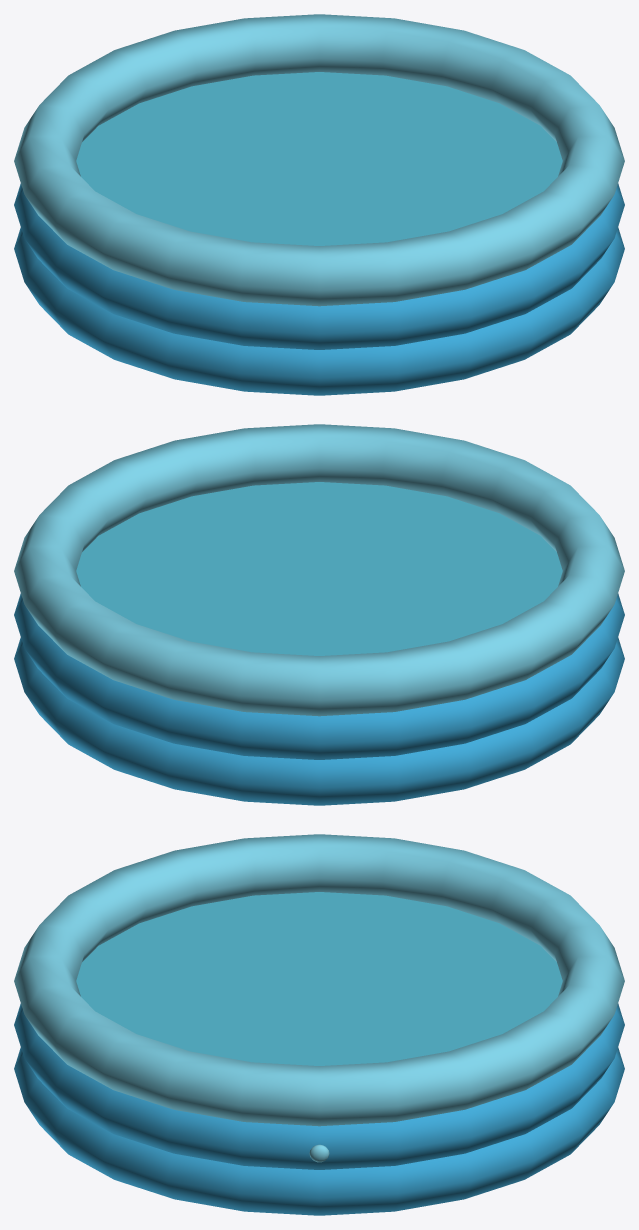
Rendered from kiddie_pool.glb.
3 views of the same model, one above another, from view 1: azimuth 30°, elevation 25°; view 2: azimuth 150°, elevation 25°; view 3: azimuth 270°, elevation 25° (orthographic).
Visible parts, largest first — view 1: Inflatable pool ring 3, Recessed flat pool water, Inflatable pool ring 1, Inflatable pool ring 2; view 2: Inflatable pool ring 3, Recessed flat pool water, Inflatable pool ring 1, Inflatable pool ring 2; view 3: Inflatable pool ring 3, Recessed flat pool water, Inflatable pool ring 1, Inflatable pool ring 2.
Part boxes in pixels (x1,y1,x2,y2): Inflatable pool ring 3: [14, 14, 624, 306]; Recessed flat pool water: [76, 72, 562, 245]; Inflatable pool ring 1: [14, 227, 624, 395]; Inflatable pool ring 2: [14, 183, 624, 349]; Inflatable pool ring 3: [14, 424, 624, 716]; Recessed flat pool water: [76, 482, 562, 655]; Inflatable pool ring 1: [14, 637, 624, 805]; Inflatable pool ring 2: [14, 593, 624, 759]; Inflatable pool ring 3: [14, 834, 624, 1126]; Recessed flat pool water: [76, 892, 562, 1065]; Inflatable pool ring 1: [14, 1047, 624, 1215]; Inflatable pool ring 2: [14, 1003, 624, 1169].
Size of the model in its own units: 1.53 by 0.3797 by 1.51.
